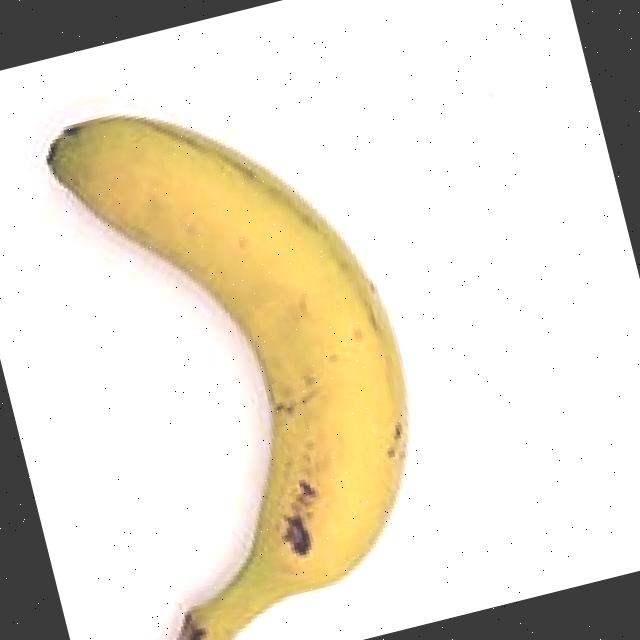Unripe: (0, 40, 490, 640)
